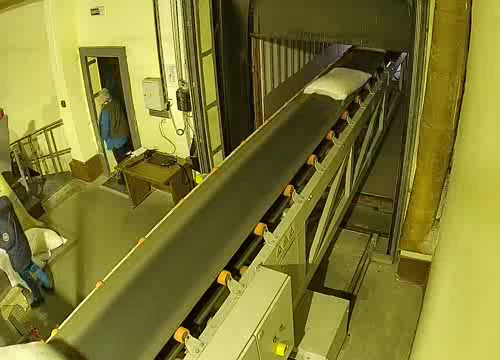bag: (304, 65, 371, 100), (0, 338, 67, 360), (352, 45, 387, 54)
